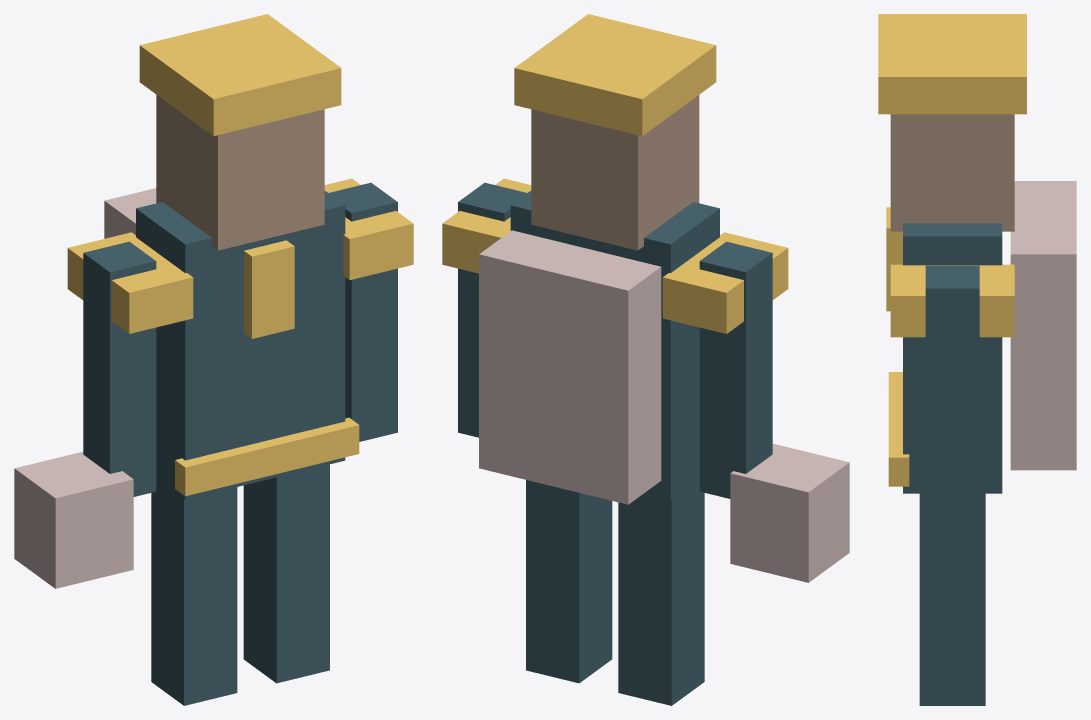
Rendered from 08_mirek_echohand_engineer_under_beast.glb.
3 renders of one model, left to right at view 1: azimuth 30°, elevation 25°; view 2: azimuth 150°, elevation 25°; view 3: azimuth 270°, elevation 25°, orthographic.
Visible parts, largest first — view 1: Mirek Echohand, Engineer under Beast; view 2: Mirek Echohand, Engineer under Beast; view 3: Mirek Echohand, Engineer under Beast.
Part boxes in pixels (x1,y1,x2,y2): Mirek Echohand, Engineer under Beast: (14, 14, 413, 705); Mirek Echohand, Engineer under Beast: (442, 14, 849, 705); Mirek Echohand, Engineer under Beast: (878, 14, 1076, 705).
Bounding box in the file's own units: 0.9583 × 1.6 × 0.4623.
